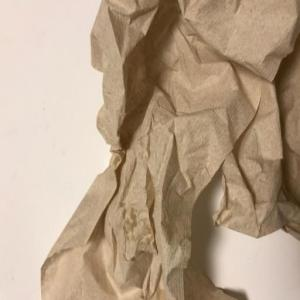Trash: (41, 2, 300, 300)
